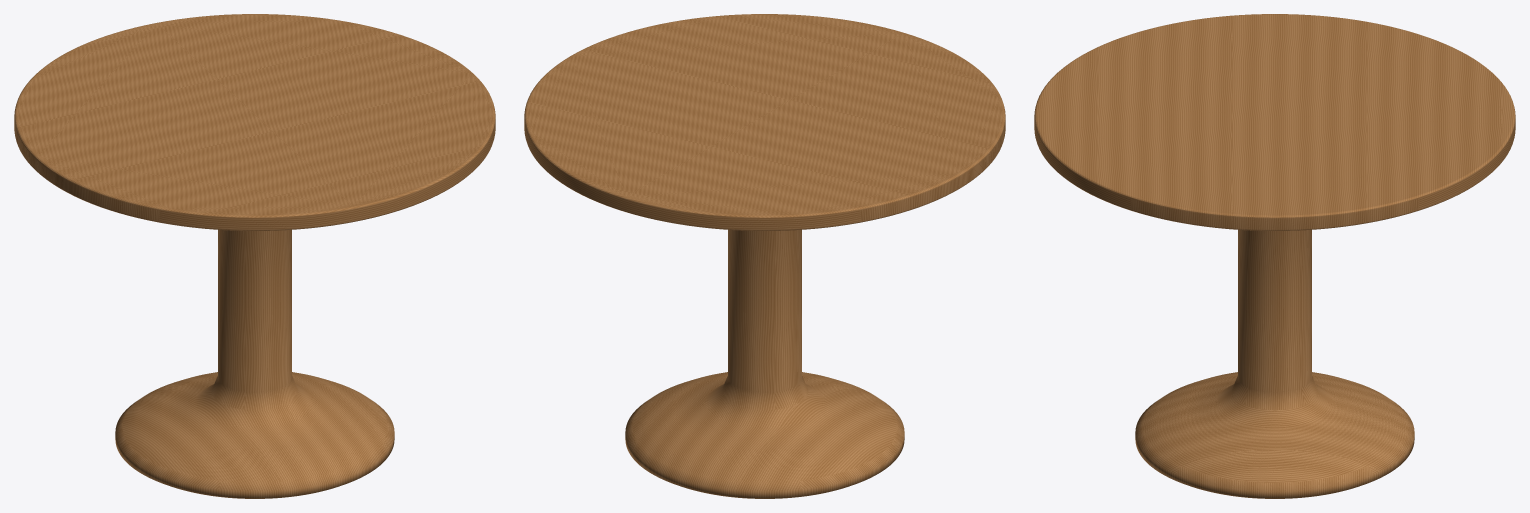
File: FURN_TABLE_ROUND_1000_OAK.glb
3 views of the same model, side by side, from view 1: azimuth 30°, elevation 25°; view 2: azimuth 150°, elevation 25°; view 3: azimuth 270°, elevation 25° (orthographic).
Visible parts, largest first — view 1: Round_Oak_Tabletop, Turned_Oak_Pedestal; view 2: Round_Oak_Tabletop, Turned_Oak_Pedestal; view 3: Round_Oak_Tabletop, Turned_Oak_Pedestal.
Boxes of the visible parts, left/top/right/bottom form: Round_Oak_Tabletop: left=14, top=14, right=495, bottom=230; Turned_Oak_Pedestal: left=115, top=230, right=394, bottom=498; Round_Oak_Tabletop: left=524, top=14, right=1005, bottom=230; Turned_Oak_Pedestal: left=625, top=230, right=904, bottom=498; Round_Oak_Tabletop: left=1034, top=14, right=1515, bottom=230; Turned_Oak_Pedestal: left=1135, top=230, right=1414, bottom=498.
Size of the model in its own units: 1 by 0.75 by 1.
1 material, 1 textured.
